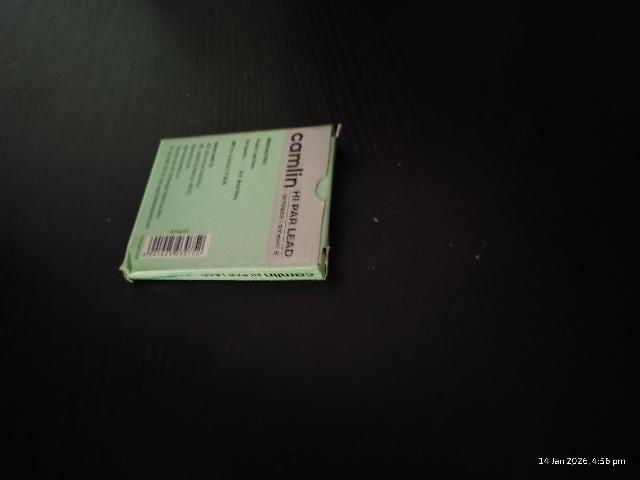camlin lids: (128, 128, 337, 276)
